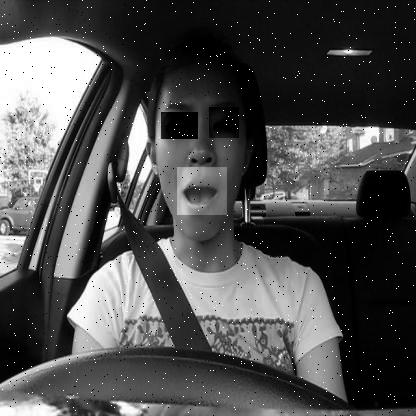seatbelt: (128, 31, 269, 350)
